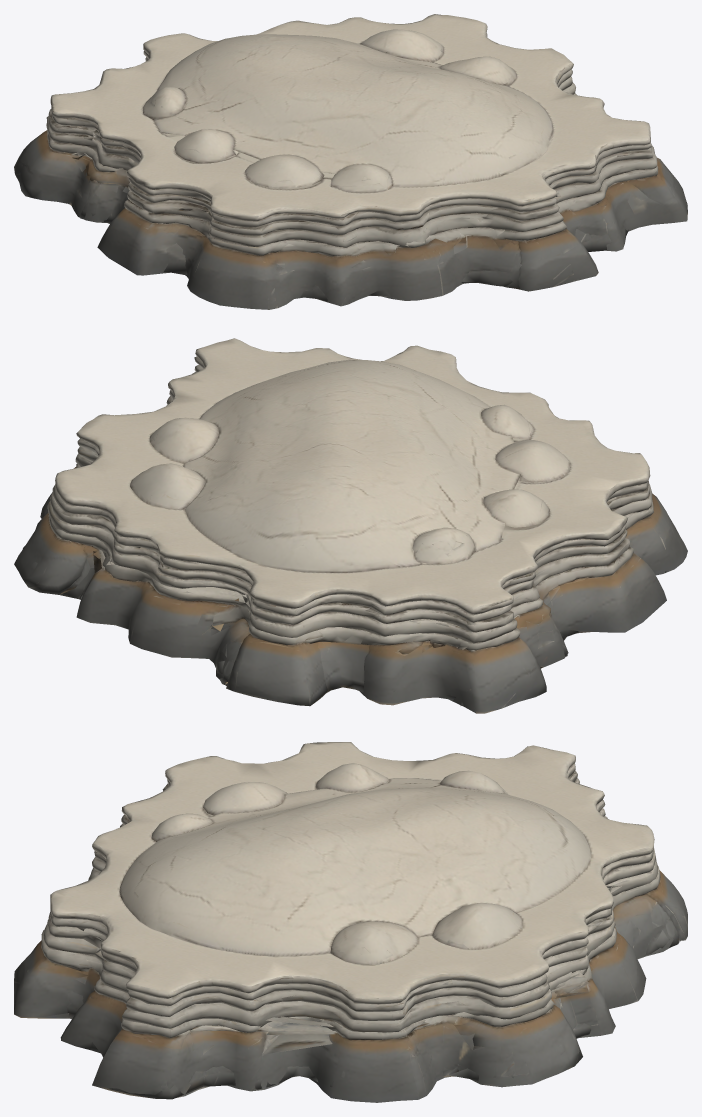
Rendered from quay-headland.glb.
3 views of the same model, one above another, from view 1: azimuth 30°, elevation 25°; view 2: azimuth 150°, elevation 25°; view 3: azimuth 270°, elevation 25° (orthographic). The views are drawn at different scales.
Visible parts, largest first — view 1: quay-headland; view 2: quay-headland; view 3: quay-headland.
Boxes of the visible parts, x1,y1,x2,y2 form: quay-headland: (14, 14, 687, 309); quay-headland: (14, 338, 687, 713); quay-headland: (14, 742, 687, 1102).
Size of the model in its own units: 0.9931 by 0.2332 by 1.
1 material, 1 textured.
